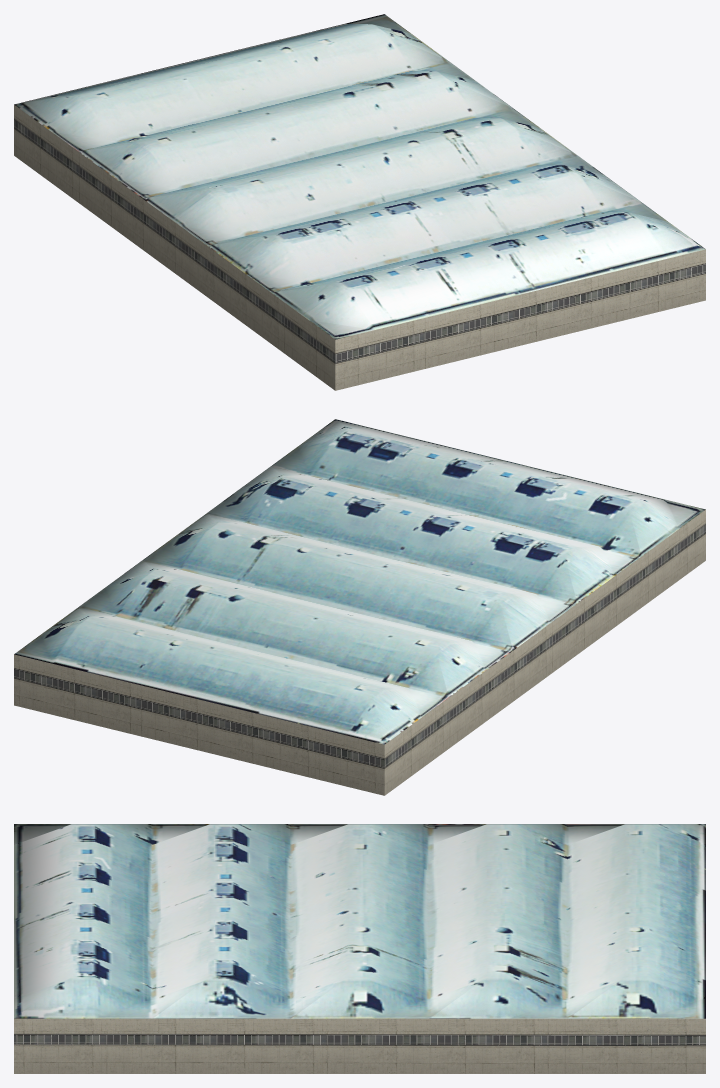
File: Building14.gltf
3 renders of one model, top to bottom at view 1: azimuth 30°, elevation 25°; view 2: azimuth 150°, elevation 25°; view 3: azimuth 270°, elevation 25°, orthographic. The views are drawn at different scales.
Parts seen in each view (by area): view 1: Building14; view 2: Building14; view 3: Building14.
Boxes of the visible parts, box(x1,y1,x2,y2) form: Building14: box(14, 14, 705, 390); Building14: box(14, 419, 705, 795); Building14: box(14, 824, 705, 1073).
Size of the model in its own units: 60.67 by 11 by 91.12.
Materials: 1 (1 with a texture image).
